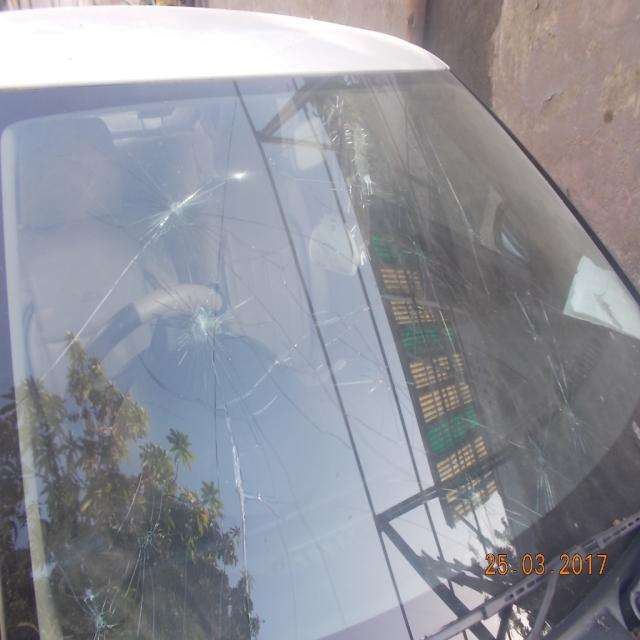Glass_Break: (186, 298, 225, 350), (131, 508, 163, 562), (163, 186, 190, 222)
